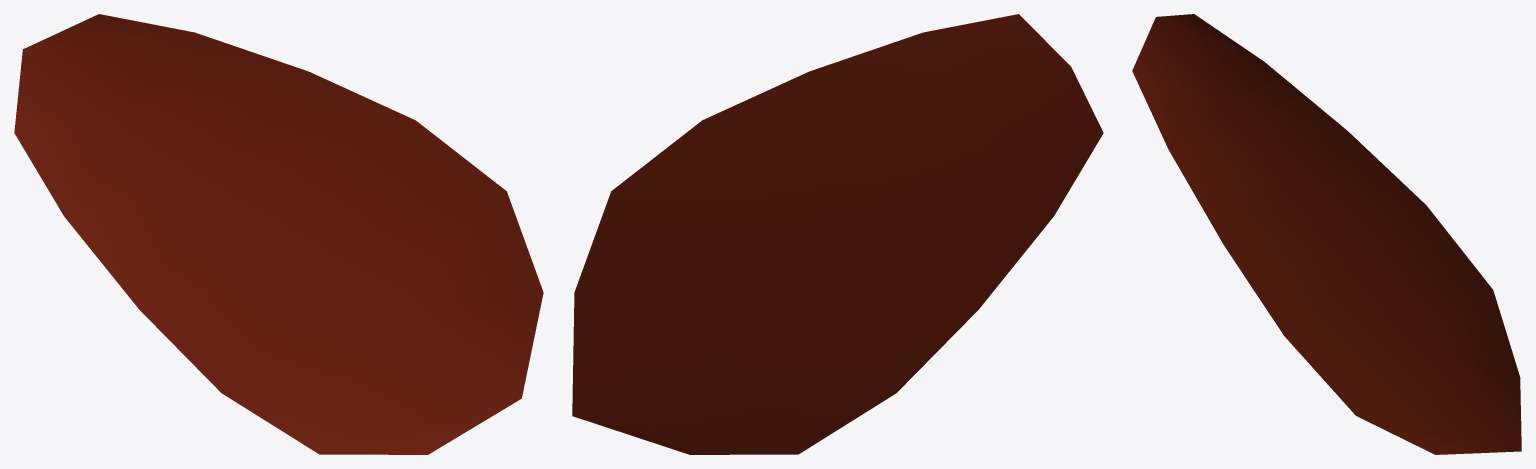
File: pheasant_feather_flight_tertiary_079.obj
3 views of the same model, side by side, from view 1: azimuth 30°, elevation 25°; view 2: azimuth 150°, elevation 25°; view 3: azimuth 330°, elevation 25° (orthographic). The views are drawn at different scales.
Visible parts, largest first — view 1: feather_flight_tertiary_079; view 2: feather_flight_tertiary_079; view 3: feather_flight_tertiary_079.
Part boxes in pixels (box(x1,y1,x2,y2)): feather_flight_tertiary_079: box(14, 14, 543, 454); feather_flight_tertiary_079: box(572, 14, 1103, 454); feather_flight_tertiary_079: box(1132, 14, 1521, 454).
Bounding box in the file's own units: 0.0162 × 0.0152 × 0.000634.
